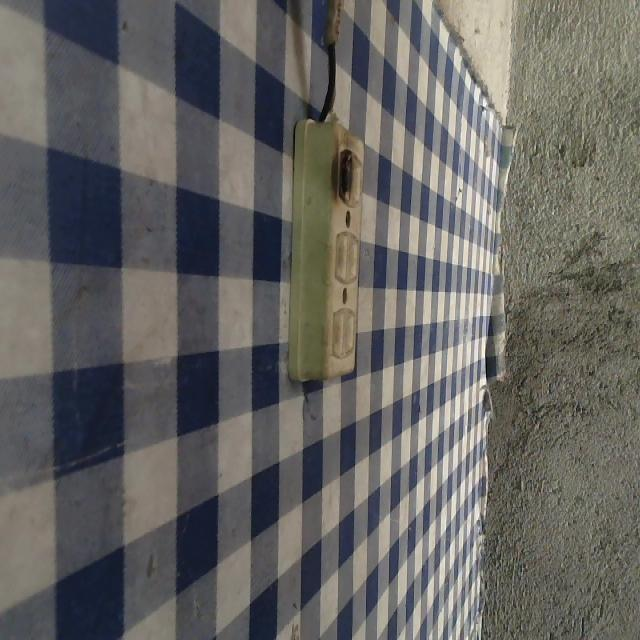-: (328, 147, 355, 208)
